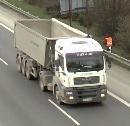Truck: (14, 18, 110, 103)
